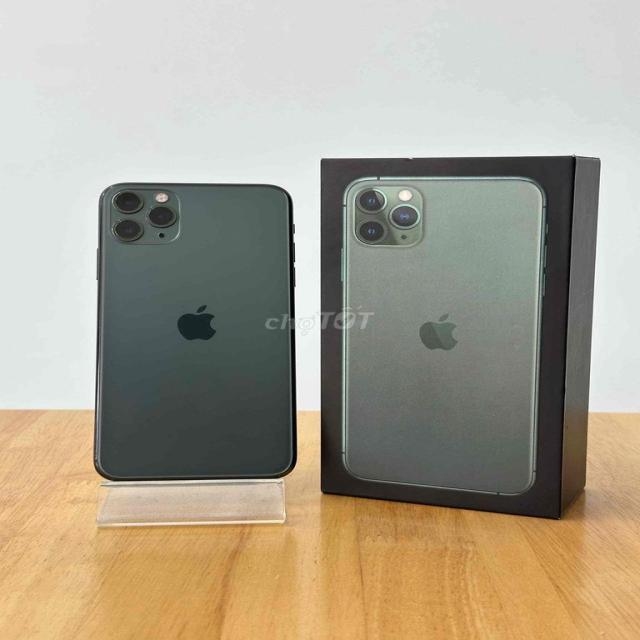gen_11: (93, 173, 308, 485)
